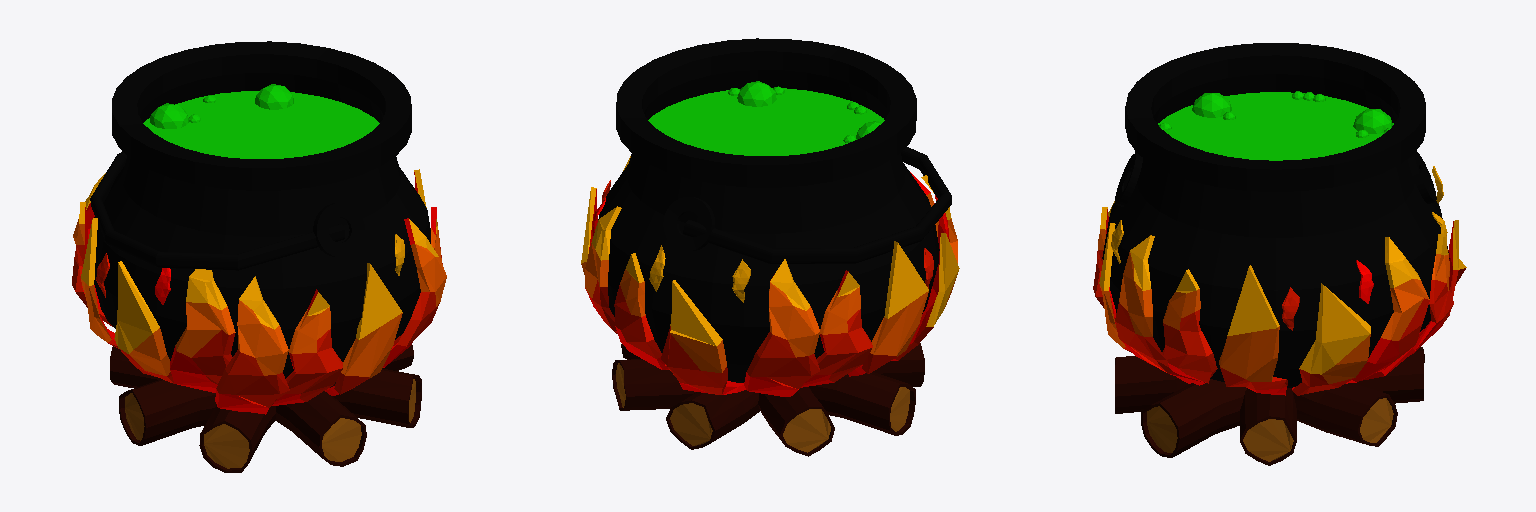
The model's file is Kawa-Lv1.obj.
3 views of the same model, side by side, from view 1: azimuth 30°, elevation 25°; view 2: azimuth 150°, elevation 25°; view 3: azimuth 270°, elevation 25° (orthographic).
Visible parts, largest first — view 1: cauldron, flames, logs, bubbles; view 2: cauldron, flames, logs, bubbles; view 3: cauldron, flames, logs, bubbles.
Boxes of the visible parts, box(x1,y1,x2,y2) form: cauldron: box(90, 41, 430, 378); flames: box(72, 169, 446, 414); logs: box(110, 345, 421, 472); bubbles: box(150, 84, 293, 128); cauldron: box(598, 38, 951, 382); flames: box(581, 156, 959, 396); logs: box(612, 343, 924, 456); bubbles: box(728, 81, 881, 142); cauldron: box(1102, 43, 1449, 387); flames: box(1093, 166, 1466, 395); logs: box(1115, 347, 1424, 465); bubbles: box(1159, 91, 1392, 137).
Size of the model in its own units: 3.42 by 3.02 by 3.37.